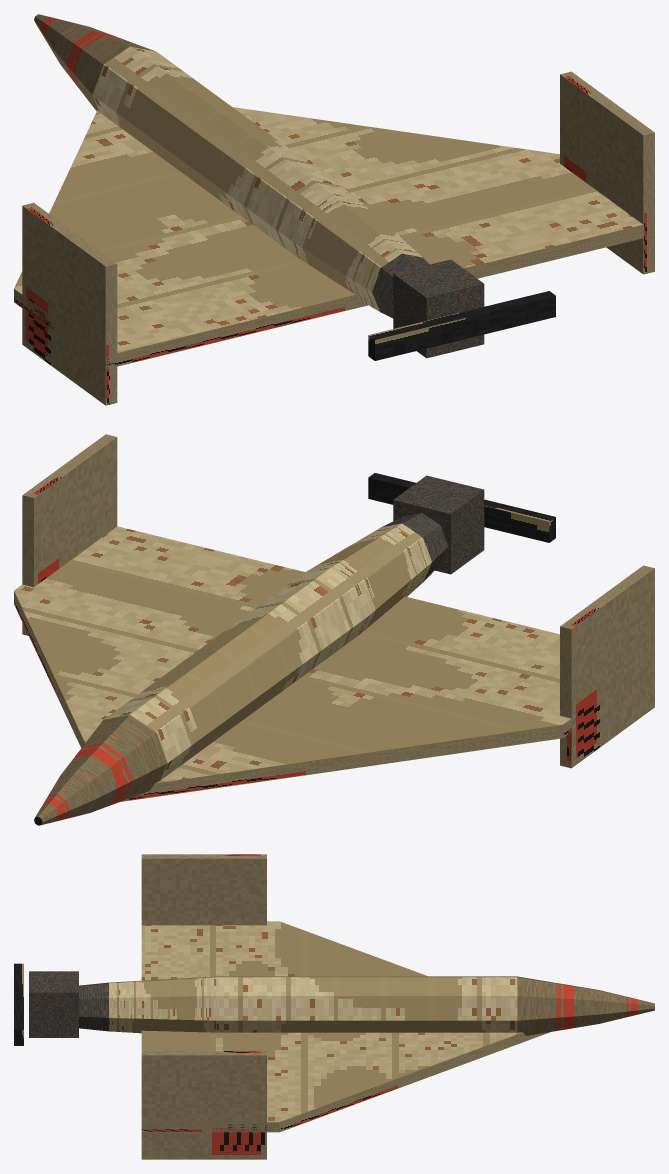
Rendered from shahed_131.glb.
3 renders of one model, top to bottom at view 1: azimuth 30°, elevation 25°; view 2: azimuth 150°, elevation 25°; view 3: azimuth 270°, elevation 25°, orthographic. The views are drawn at different scales.
Parts seen in each view (by area): view 1: airframe, prop1; view 2: airframe, prop1; view 3: airframe, prop1.
Boxes of the visible parts, x1=… form: airframe: x1=14, y1=14, x2=654, y2=405; prop1: x1=368, y1=291, x2=555, y2=360; airframe: x1=14, y1=434, x2=654, y2=825; prop1: x1=368, y1=473, x2=555, y2=542; airframe: x1=29, y1=854, x2=654, y2=1159; prop1: x1=14, y1=963, x2=23, y2=1045.
Size of the model in its own units: 1.9 by 0.46 by 2.56.
1 material, 1 textured.
